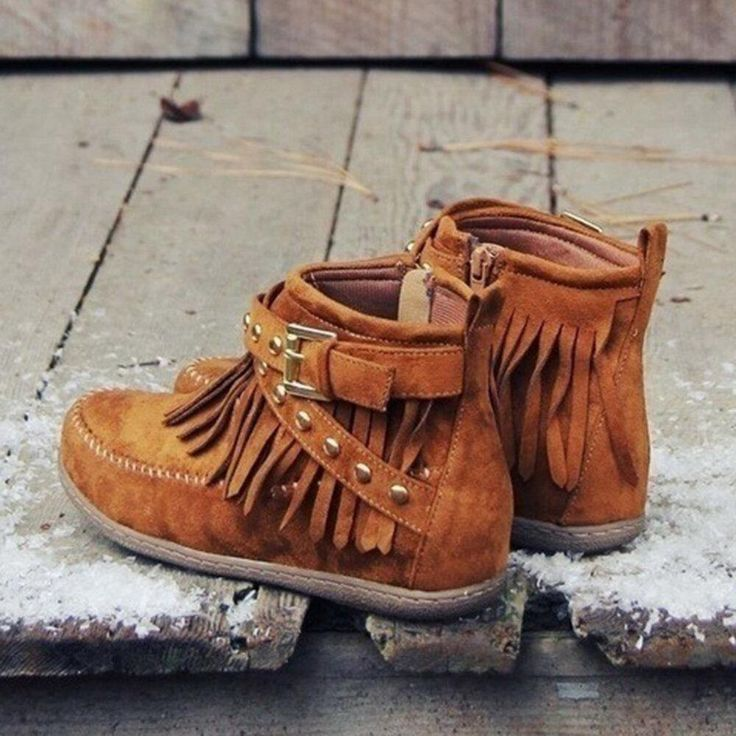gamuza: (63, 198, 666, 593)
